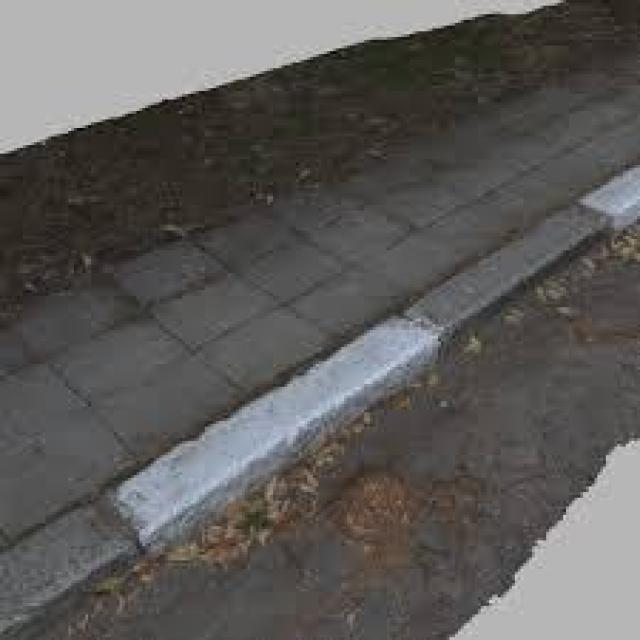curb: (82, 366, 282, 588), (267, 286, 433, 483), (417, 173, 565, 360), (548, 164, 638, 277)
